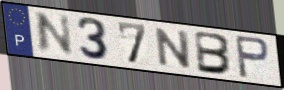3: (76, 17, 112, 62)
7: (116, 20, 149, 67)
B: (193, 29, 235, 76)
N: (34, 11, 76, 57), (155, 26, 193, 71)
P: (233, 34, 272, 81)
